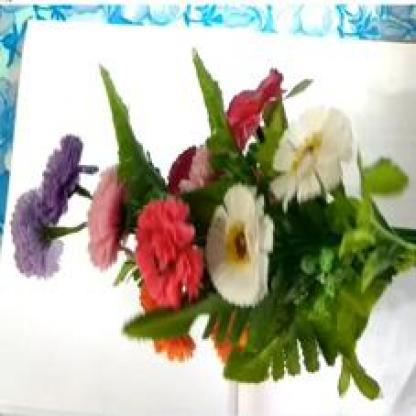flower: (17, 39, 414, 414)
